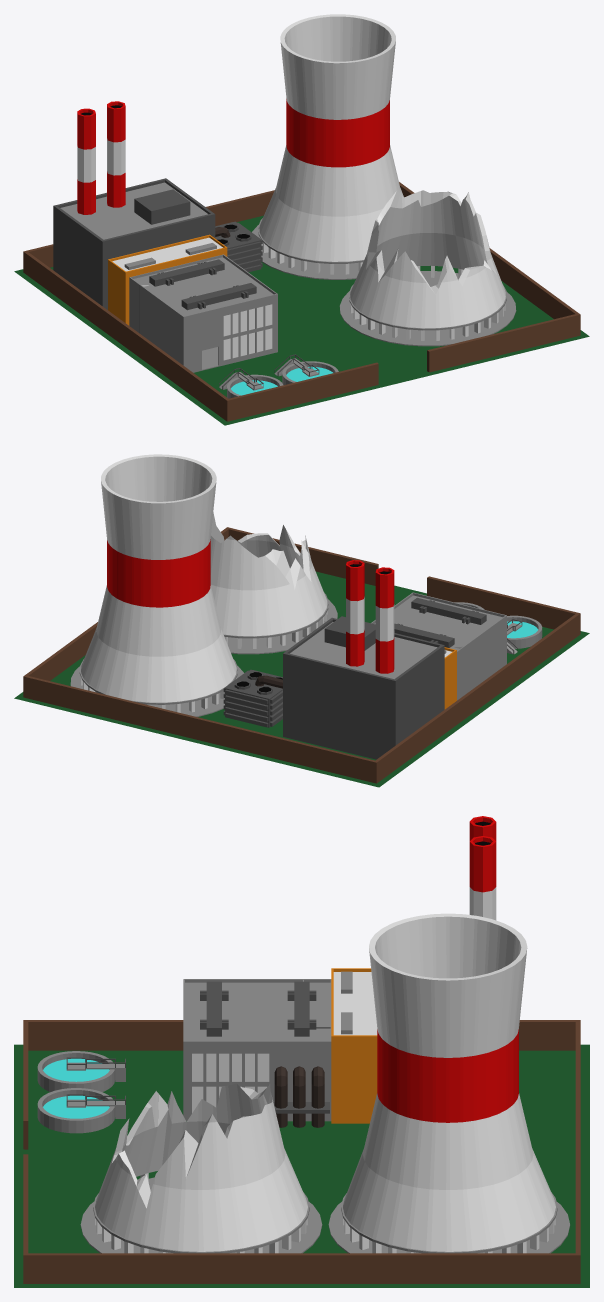
The model's file is powerplant.fbx.
3 views of the same model, one above another, from view 1: azimuth 30°, elevation 25°; view 2: azimuth 150°, elevation 25°; view 3: azimuth 270°, elevation 25° (orthographic). The views are drawn at different scales.
Parts seen in each view (by area): view 1: Plane, Plane.001; view 2: Plane, Plane.001; view 3: Plane, Plane.001.
Part boxes in pixels (x1=…): Plane: x1=23, y1=14, x2=580, y2=421; Plane.001: x1=14, y1=215, x2=589, y2=425; Plane: x1=23, y1=454, x2=580, y2=783; Plane.001: x1=14, y1=571, x2=589, y2=787; Plane: x1=23, y1=816, x2=580, y2=1283; Plane.001: x1=14, y1=1044, x2=589, y2=1287.
Bounding box in the file's own units: 7478 × 4112 × 7478.
